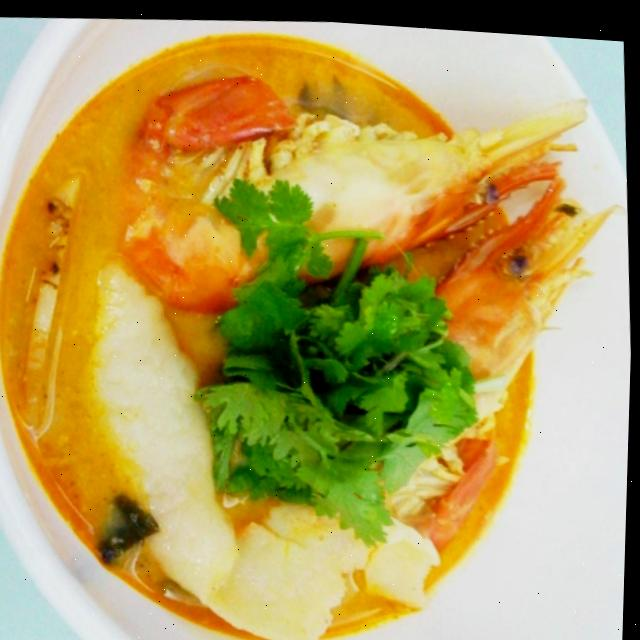汤锅炖物: (0, 33, 514, 640)
